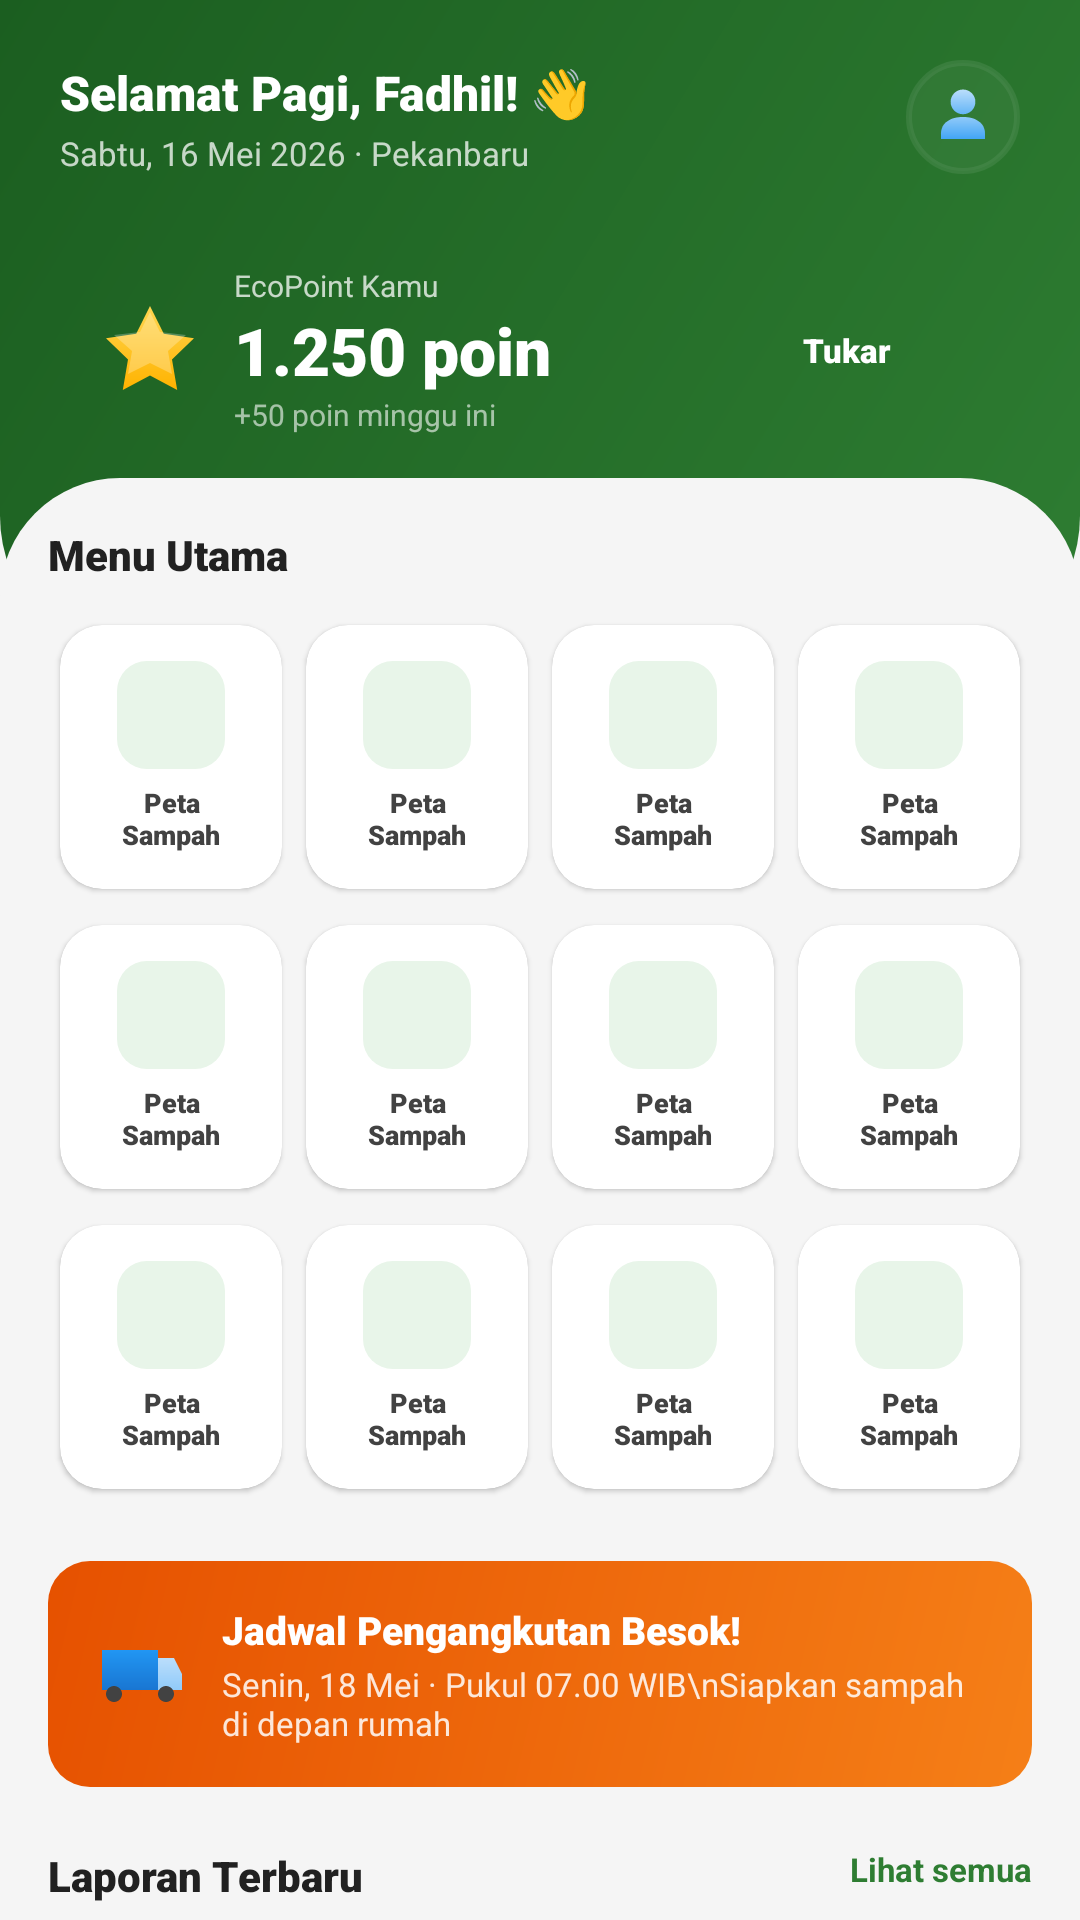

Icon bounding boxes for this 1080×1920 phone screenshot, format {"x1": x1, "y1": y1, "x2": x2, "y2": y2}:
person: {"x1": 941, "y1": 89, "x2": 985, "y2": 139}
shipping: {"x1": 102, "y1": 1650, "x2": 182, "y2": 1702}
star: {"x1": 106, "y1": 306, "x2": 194, "y2": 390}
